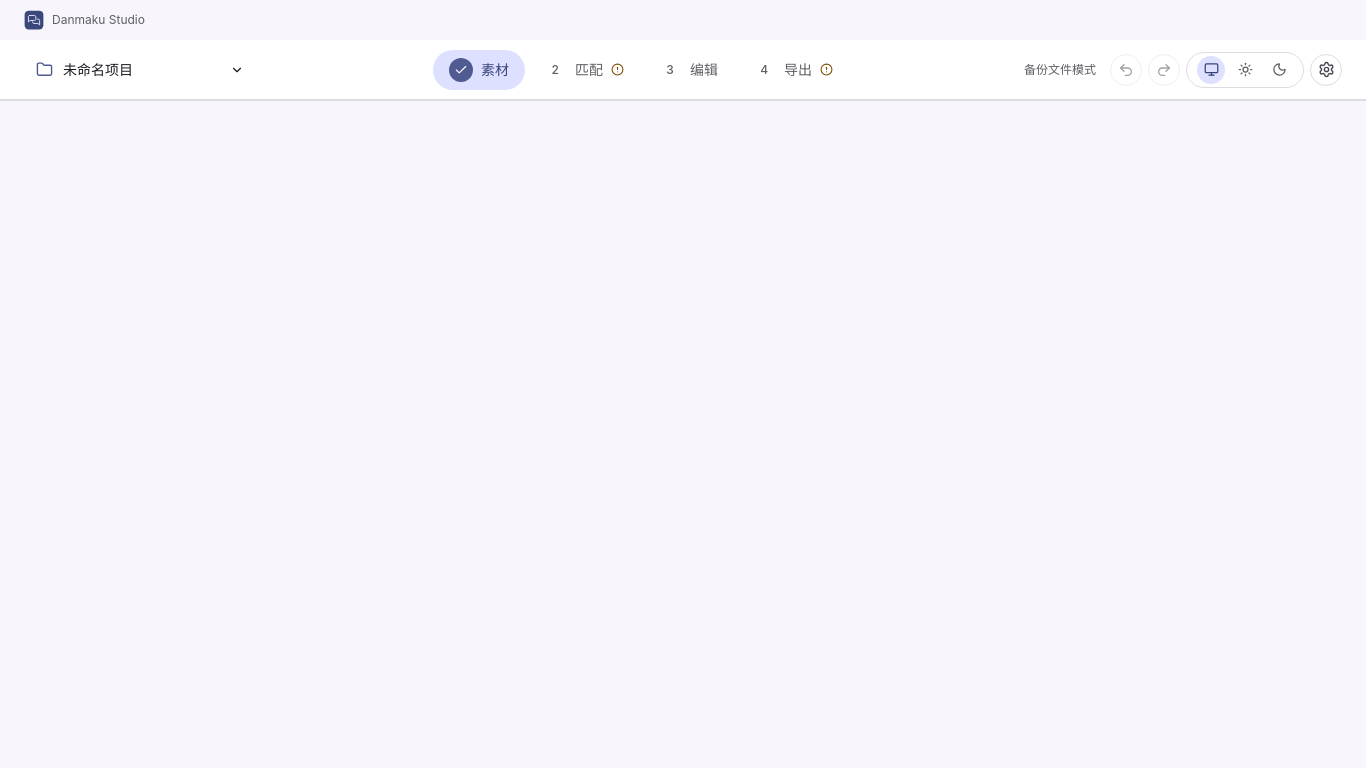
编辑器工具栏 › 新手引导主动作进入匹配页运行分析，不应用全局对齐提案
Click the heading named "项目菜单".
click(98, 70)  # box [36,61,244,78]
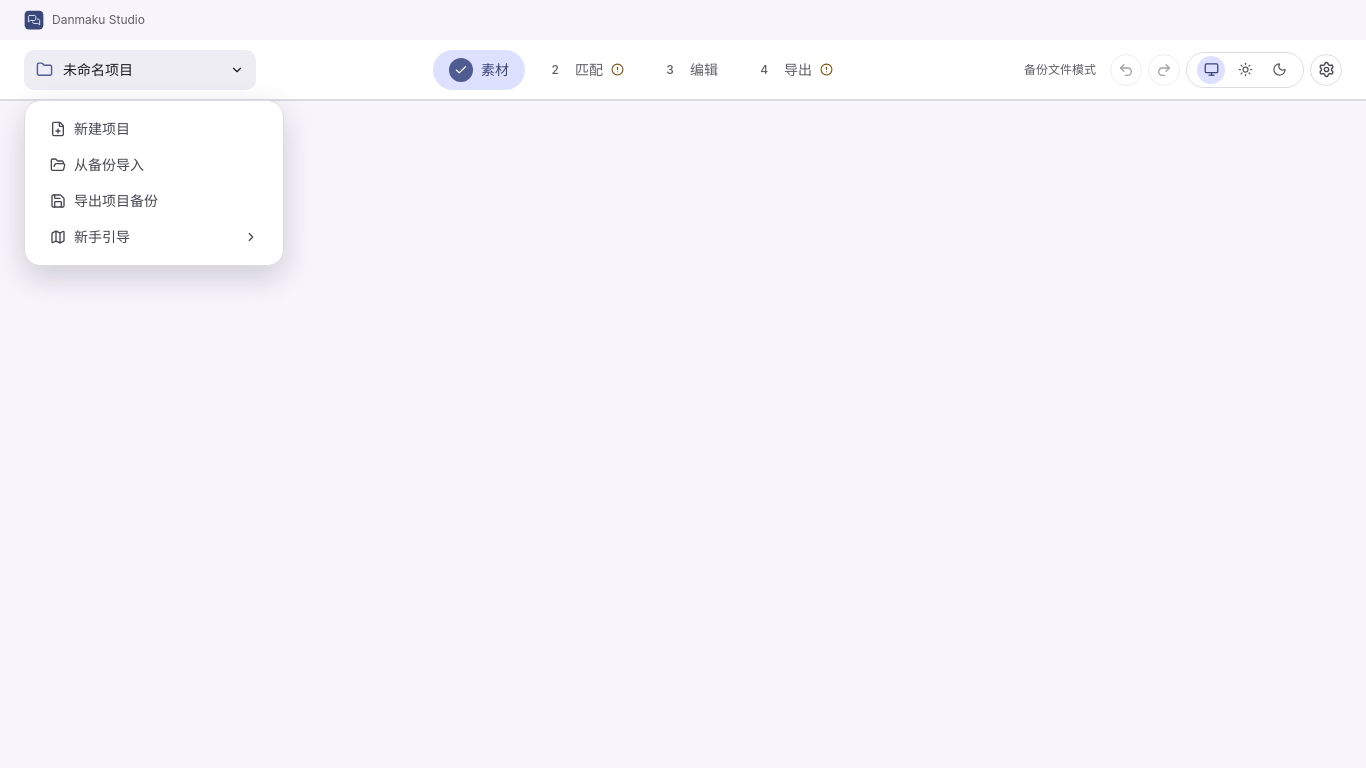
Click the button "新手引导".
click(154, 236)  # box [37,220,271,252]
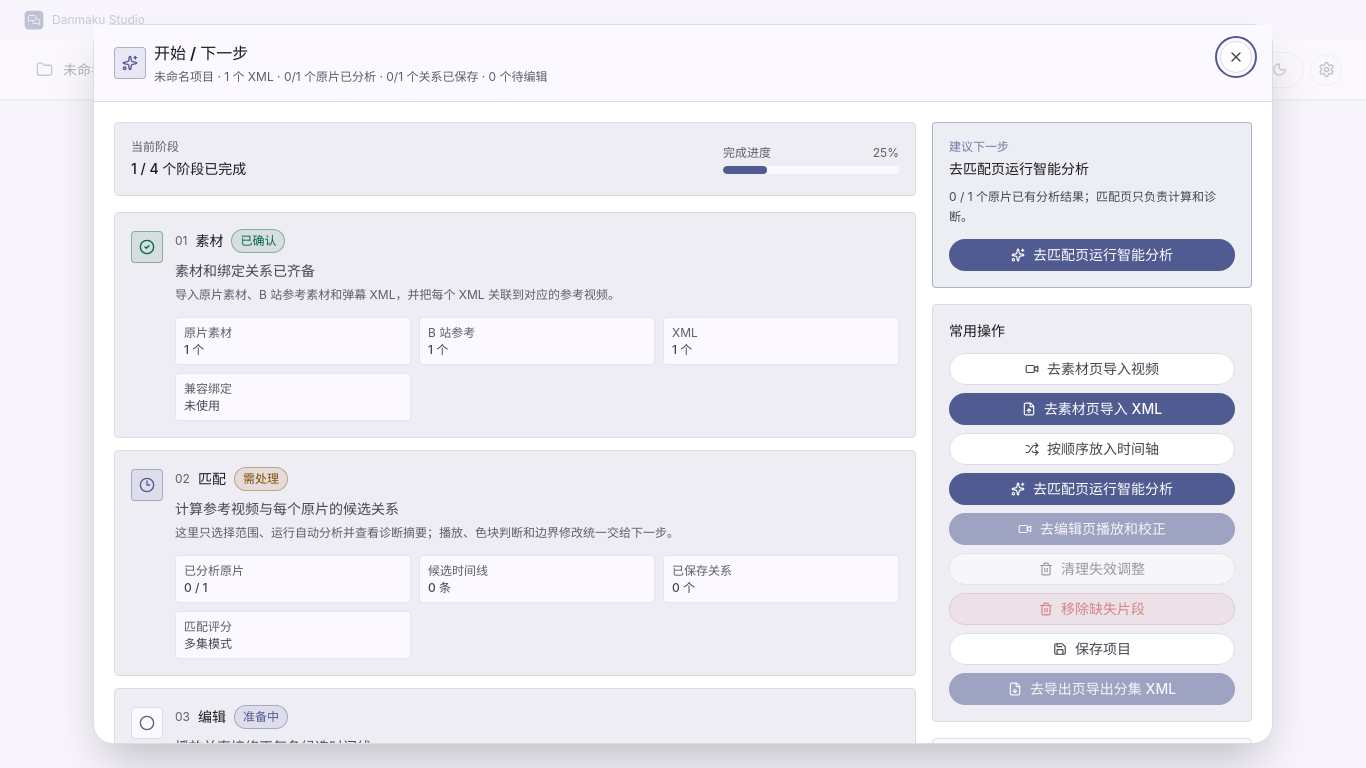
Result: the button "去匹配页运行智能分析" below "0 / 1 个原片已有分析结果；匹配页只负责计算和诊断。" is shown
Click the button "去匹配页运行智能分析" below "0 / 1 个原片已有分析结果；匹配页只负责计算和诊断。".
click(1092, 255)  # box [949,239,1235,271]
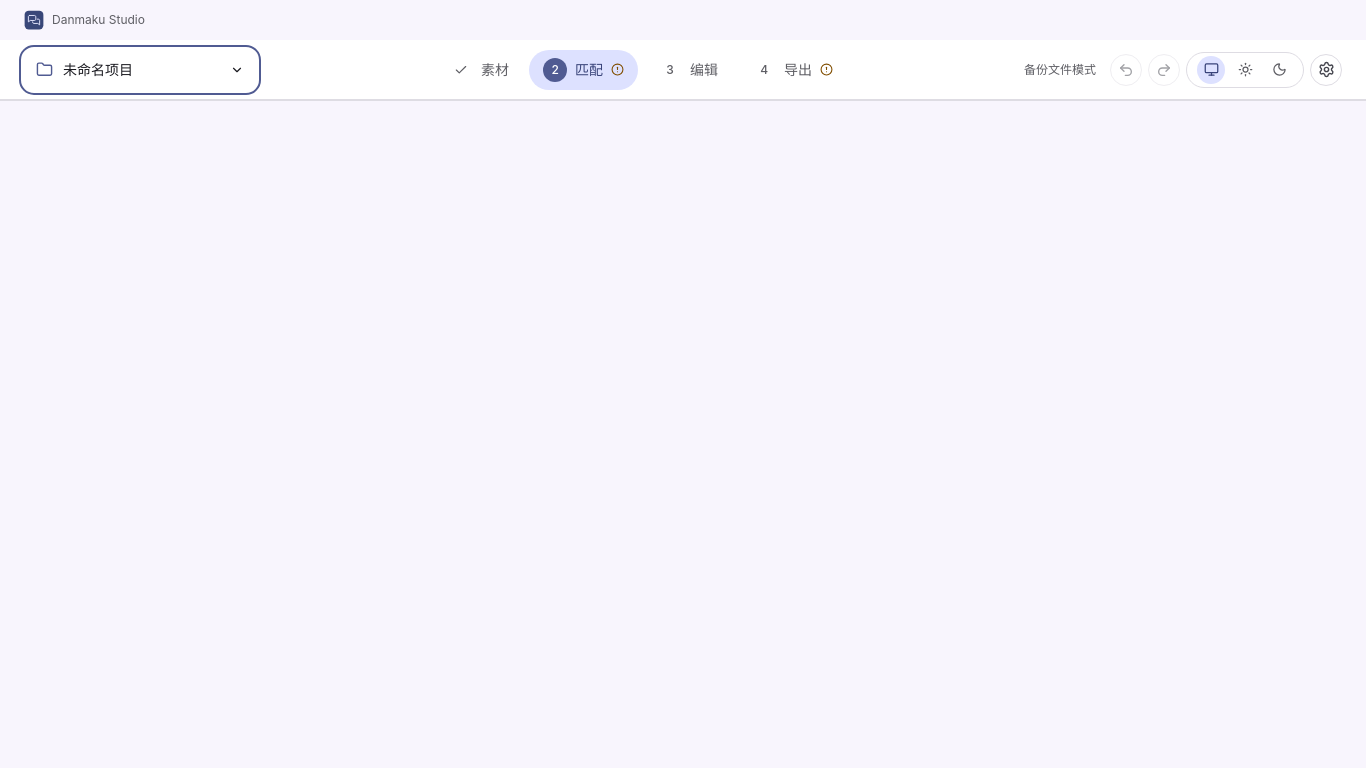
Result: the element with test id "workflow-overview-dialog" is gone
